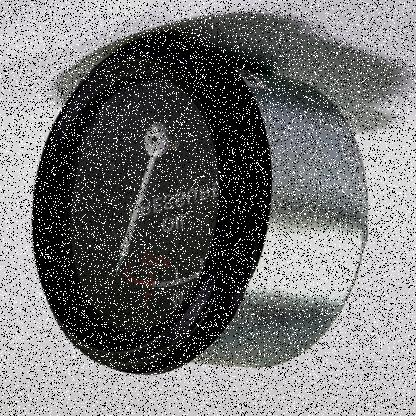needle: (113, 158, 159, 277)
